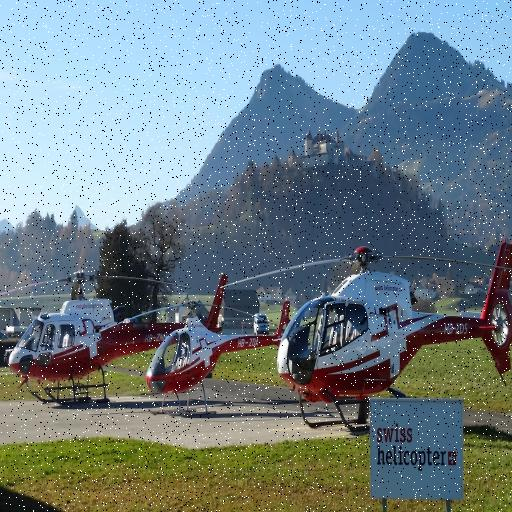helicopter: (273, 176, 512, 379), (5, 233, 234, 423), (144, 215, 306, 388)
